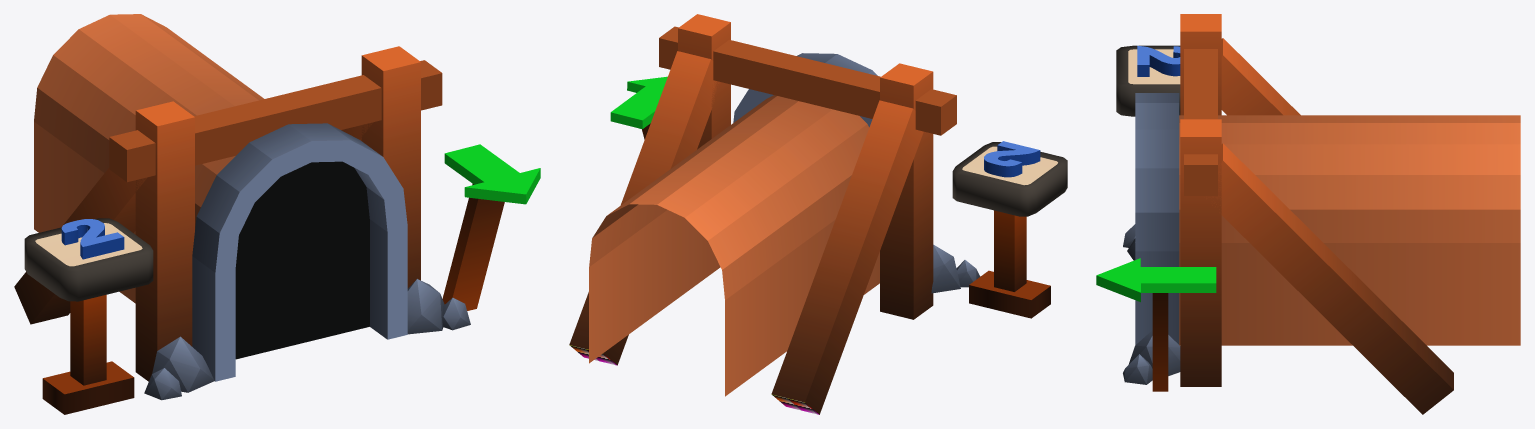
Rendered from Green_2.fbx.
3 views of the same model, side by side, from view 1: azimuth 30°, elevation 25°; view 2: azimuth 150°, elevation 25°; view 3: azimuth 270°, elevation 25° (orthographic). The views are drawn at different scales.
Visible parts, largest first — view 1: tunel_1.006, tunel_1.007, Text.008; view 2: tunel_1.006, tunel_1.007, Text.008; view 3: tunel_1.006, tunel_1.007, Text.008.
Part boxes in pixels (bbox=[...]): tunel_1.006: bbox=[14, 14, 504, 414]; tunel_1.007: bbox=[444, 144, 540, 204]; Text.008: bbox=[61, 219, 124, 259]; tunel_1.006: bbox=[569, 14, 1067, 414]; tunel_1.007: bbox=[610, 76, 667, 129]; Text.008: bbox=[984, 141, 1040, 177]; tunel_1.006: bbox=[1116, 14, 1520, 414]; tunel_1.007: bbox=[1096, 258, 1216, 302]; Text.008: bbox=[1137, 45, 1180, 76].
Size of the model in its own units: 816 by 468 by 647.
